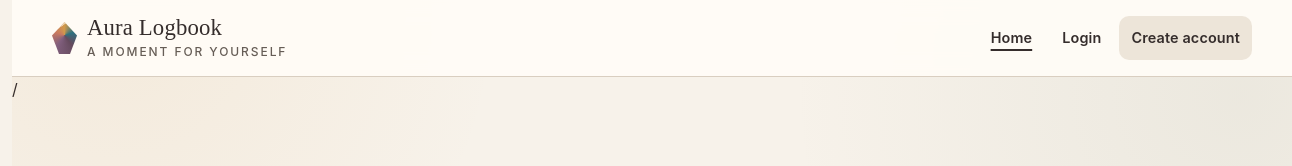
Scenario: NavBar › shows public destinations when signed out and navigates to registration
Expected: the link "Home" is shown, [991,29,1032,46]
Expected: the link "Login" is shown, [1062,29,1101,46]
Click the link "Create account" at point(1186, 38), box [1119,16,1252,60]
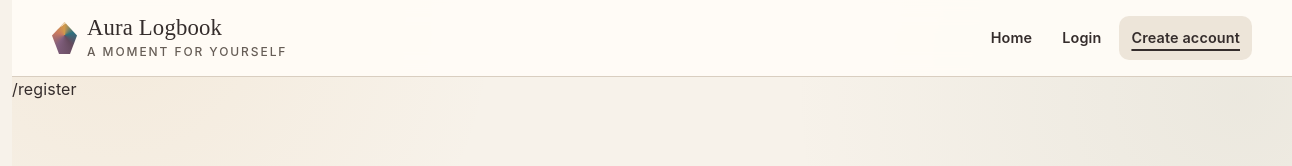
Expected: the text named "Current path" reads "/register", [12,79,77,99]
